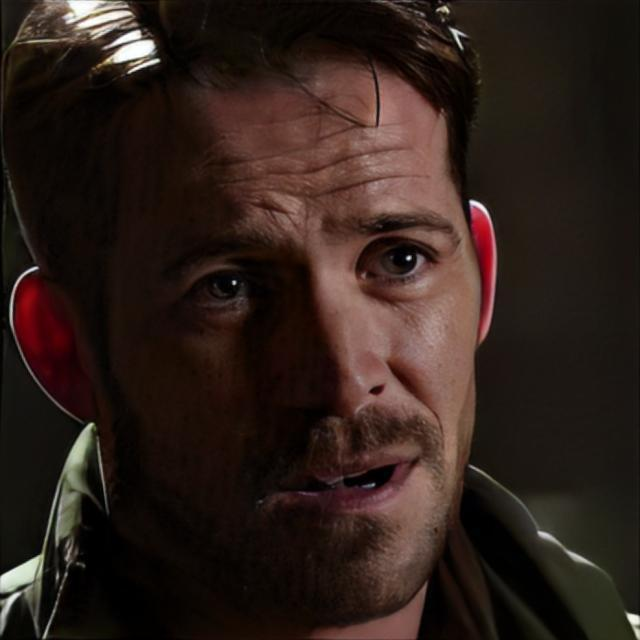fear: (96, 47, 482, 626)
